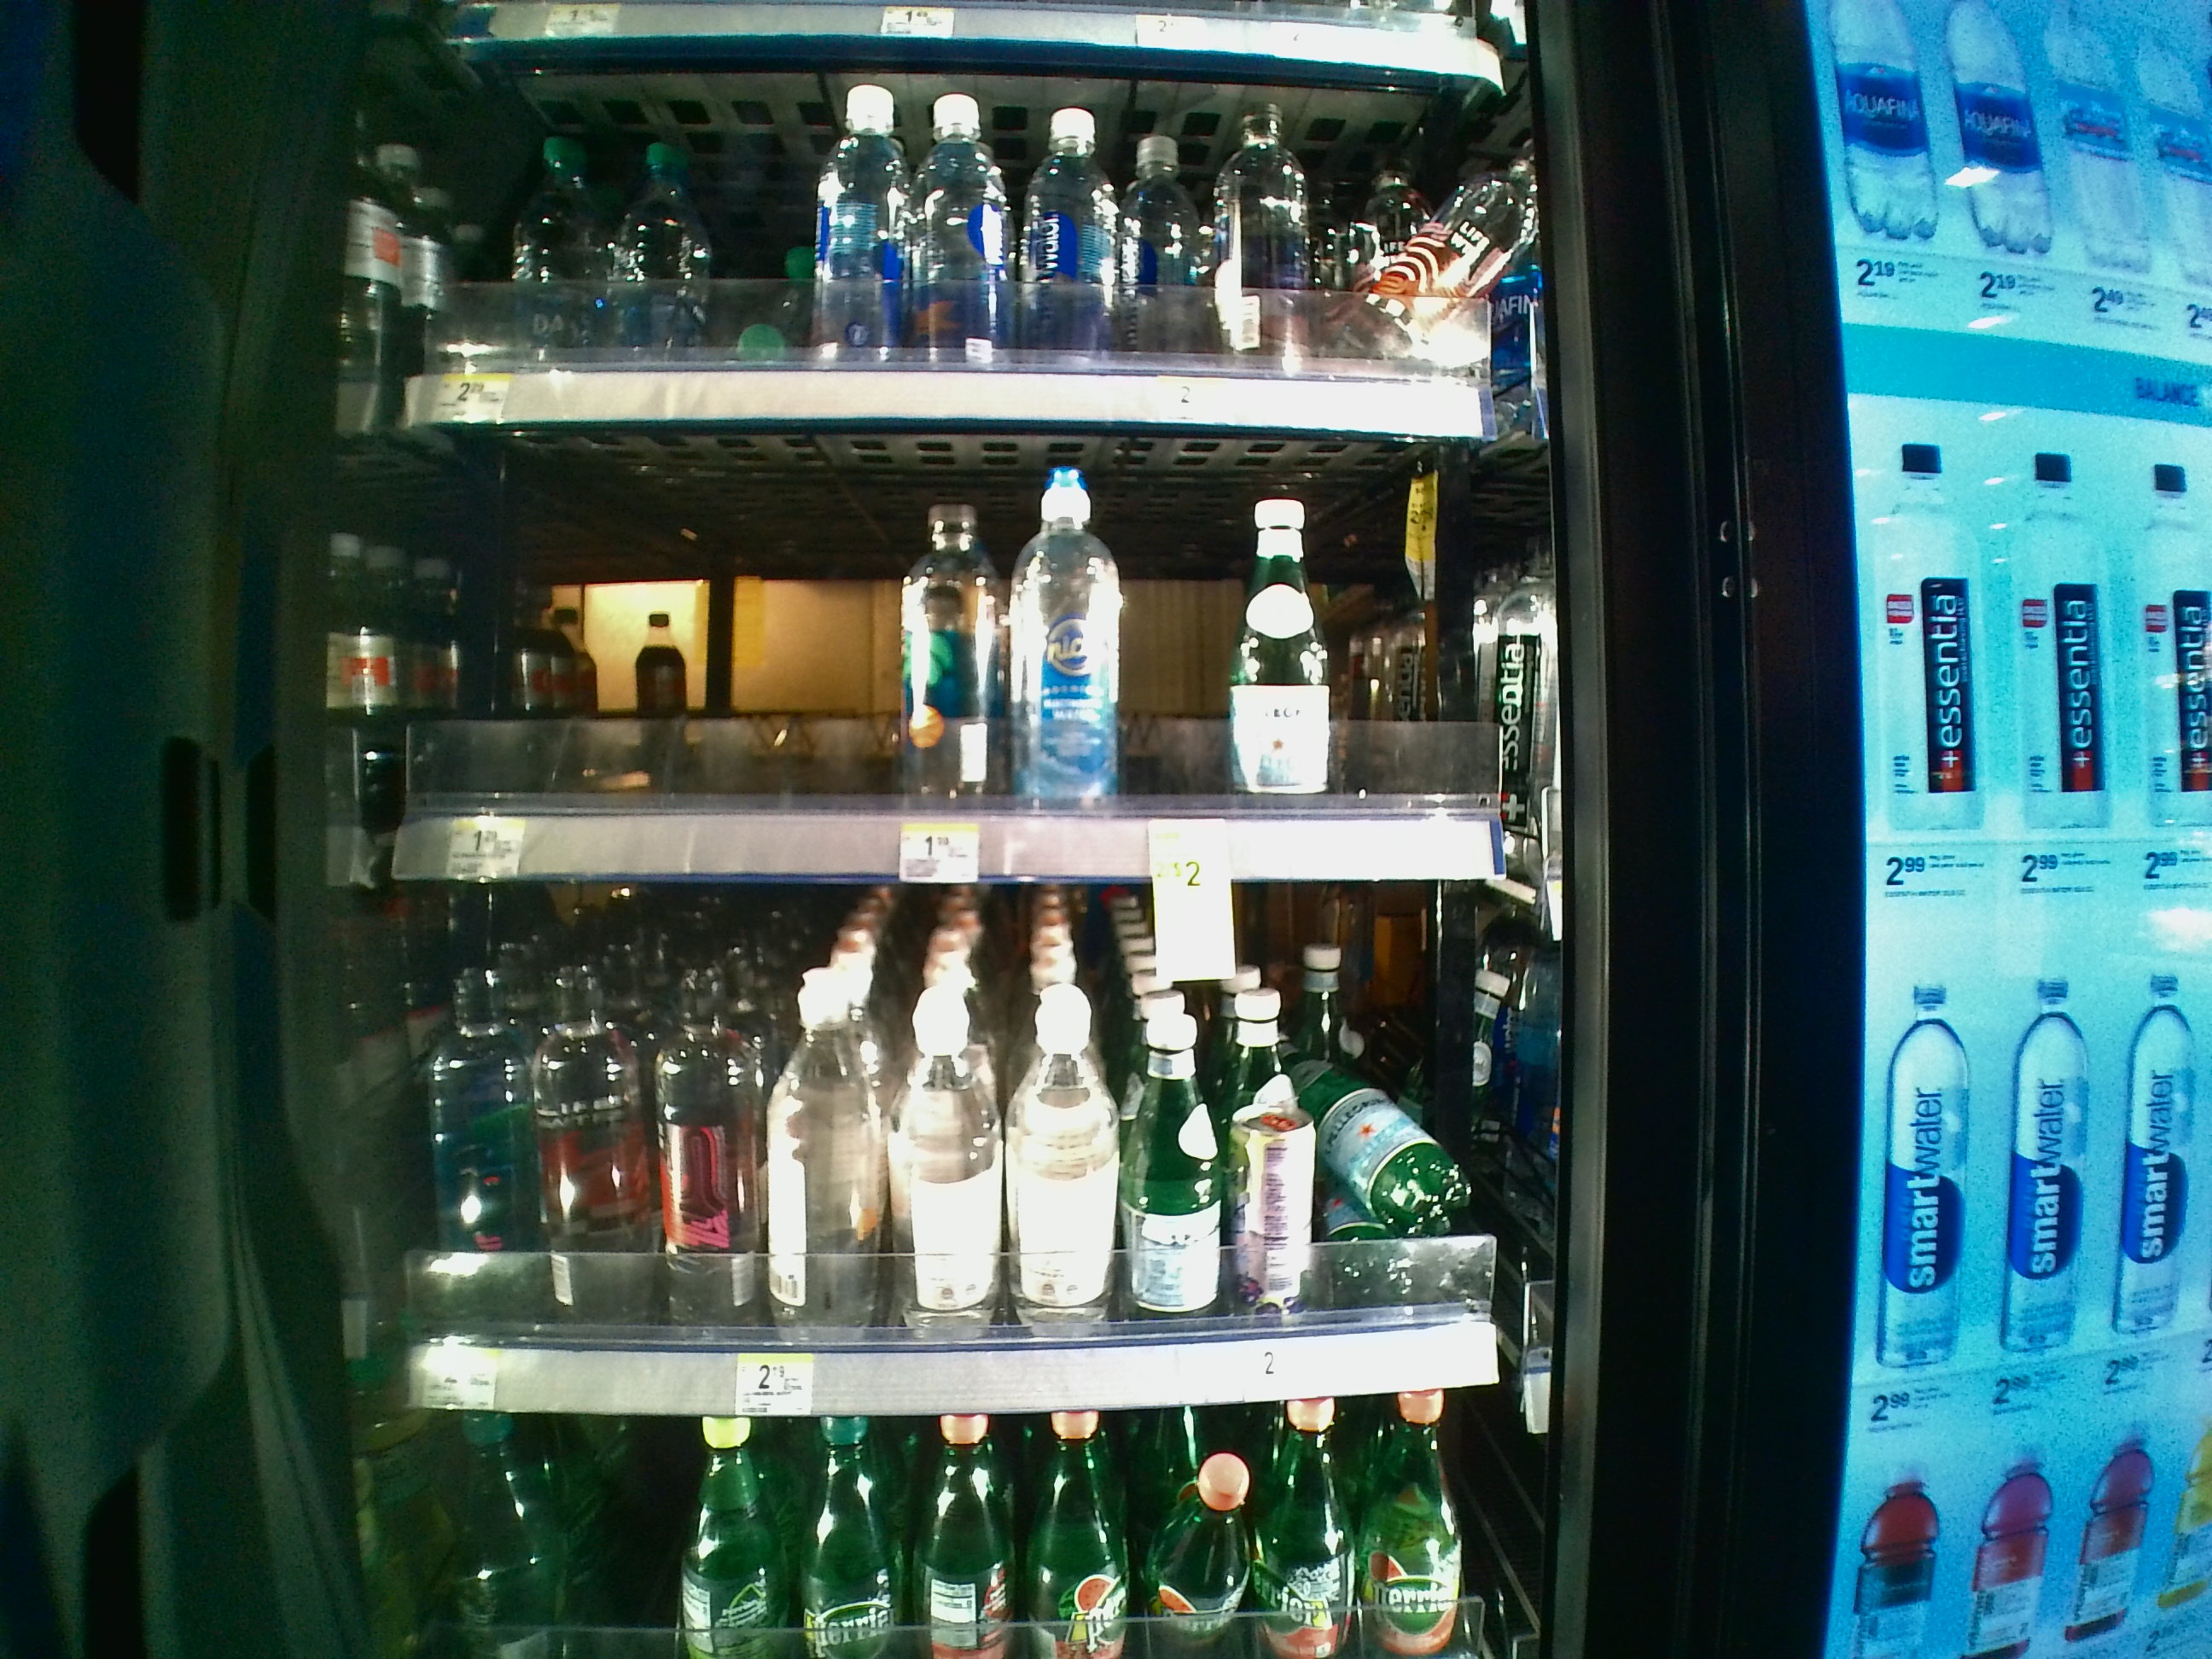Shelf: (343, 887, 1609, 1417), (347, 425, 1521, 887)
